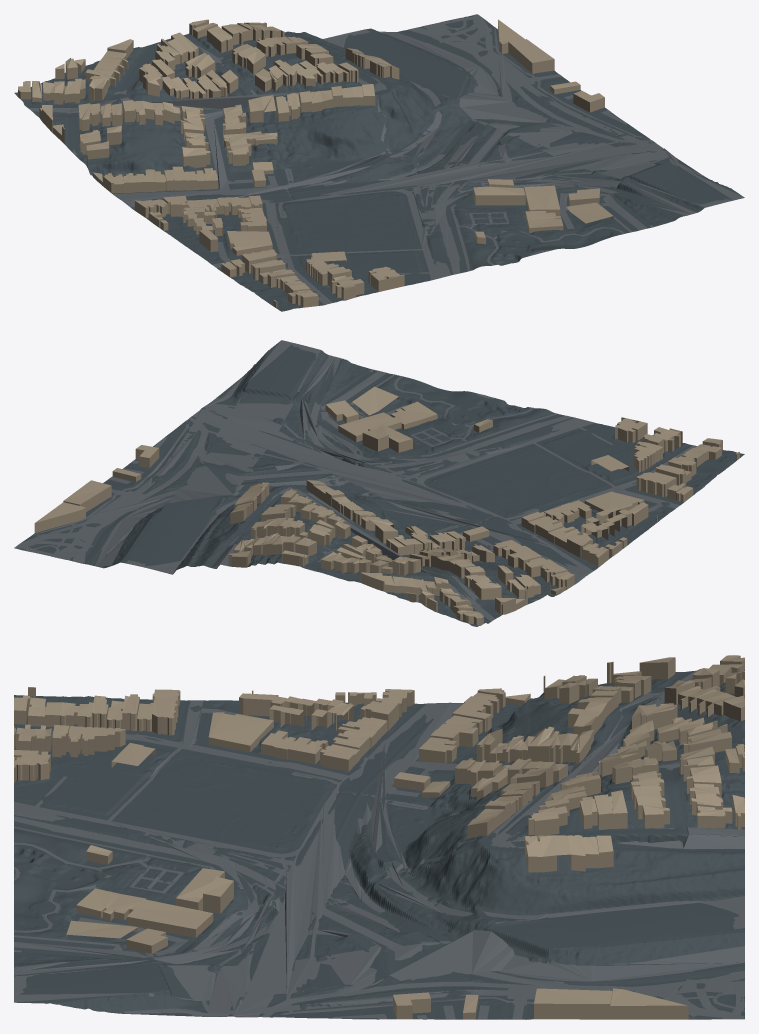
The model's file is epsg26910-1438-10880.lod0.glb.
The picture shows the model from 3 angles, top to bottom: view 1: azimuth 30°, elevation 25°; view 2: azimuth 150°, elevation 25°; view 3: azimuth 270°, elevation 25°; orthographic projection. The views are drawn at different scales.
Visible parts, largest first — view 1: epsg26910-1438-10880-lod0; view 2: epsg26910-1438-10880-lod0; view 3: epsg26910-1438-10880-lod0.
Boxes of the visible parts, left/top/right/bottom form: epsg26910-1438-10880-lod0: left=14, top=14, right=744, bottom=311; epsg26910-1438-10880-lod0: left=14, top=340, right=744, bottom=626; epsg26910-1438-10880-lod0: left=14, top=655, right=744, bottom=1019.
Size of the model in its own units: 384 by 54.27 by 384.
